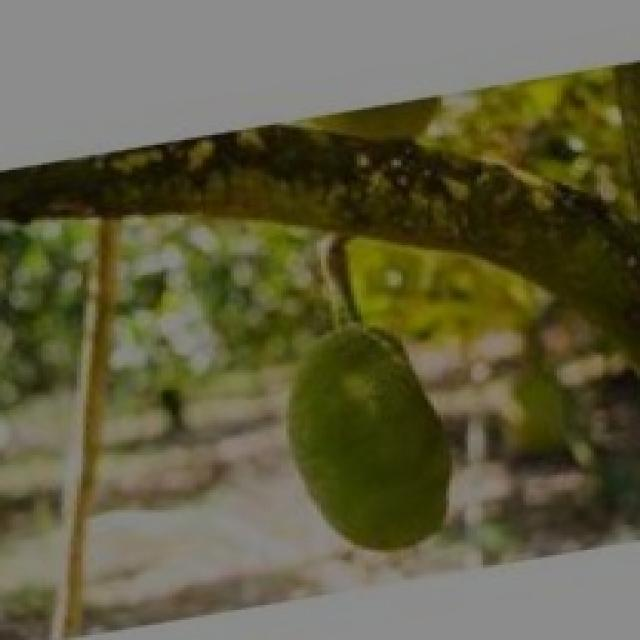Fruit: (252, 300, 480, 575)
